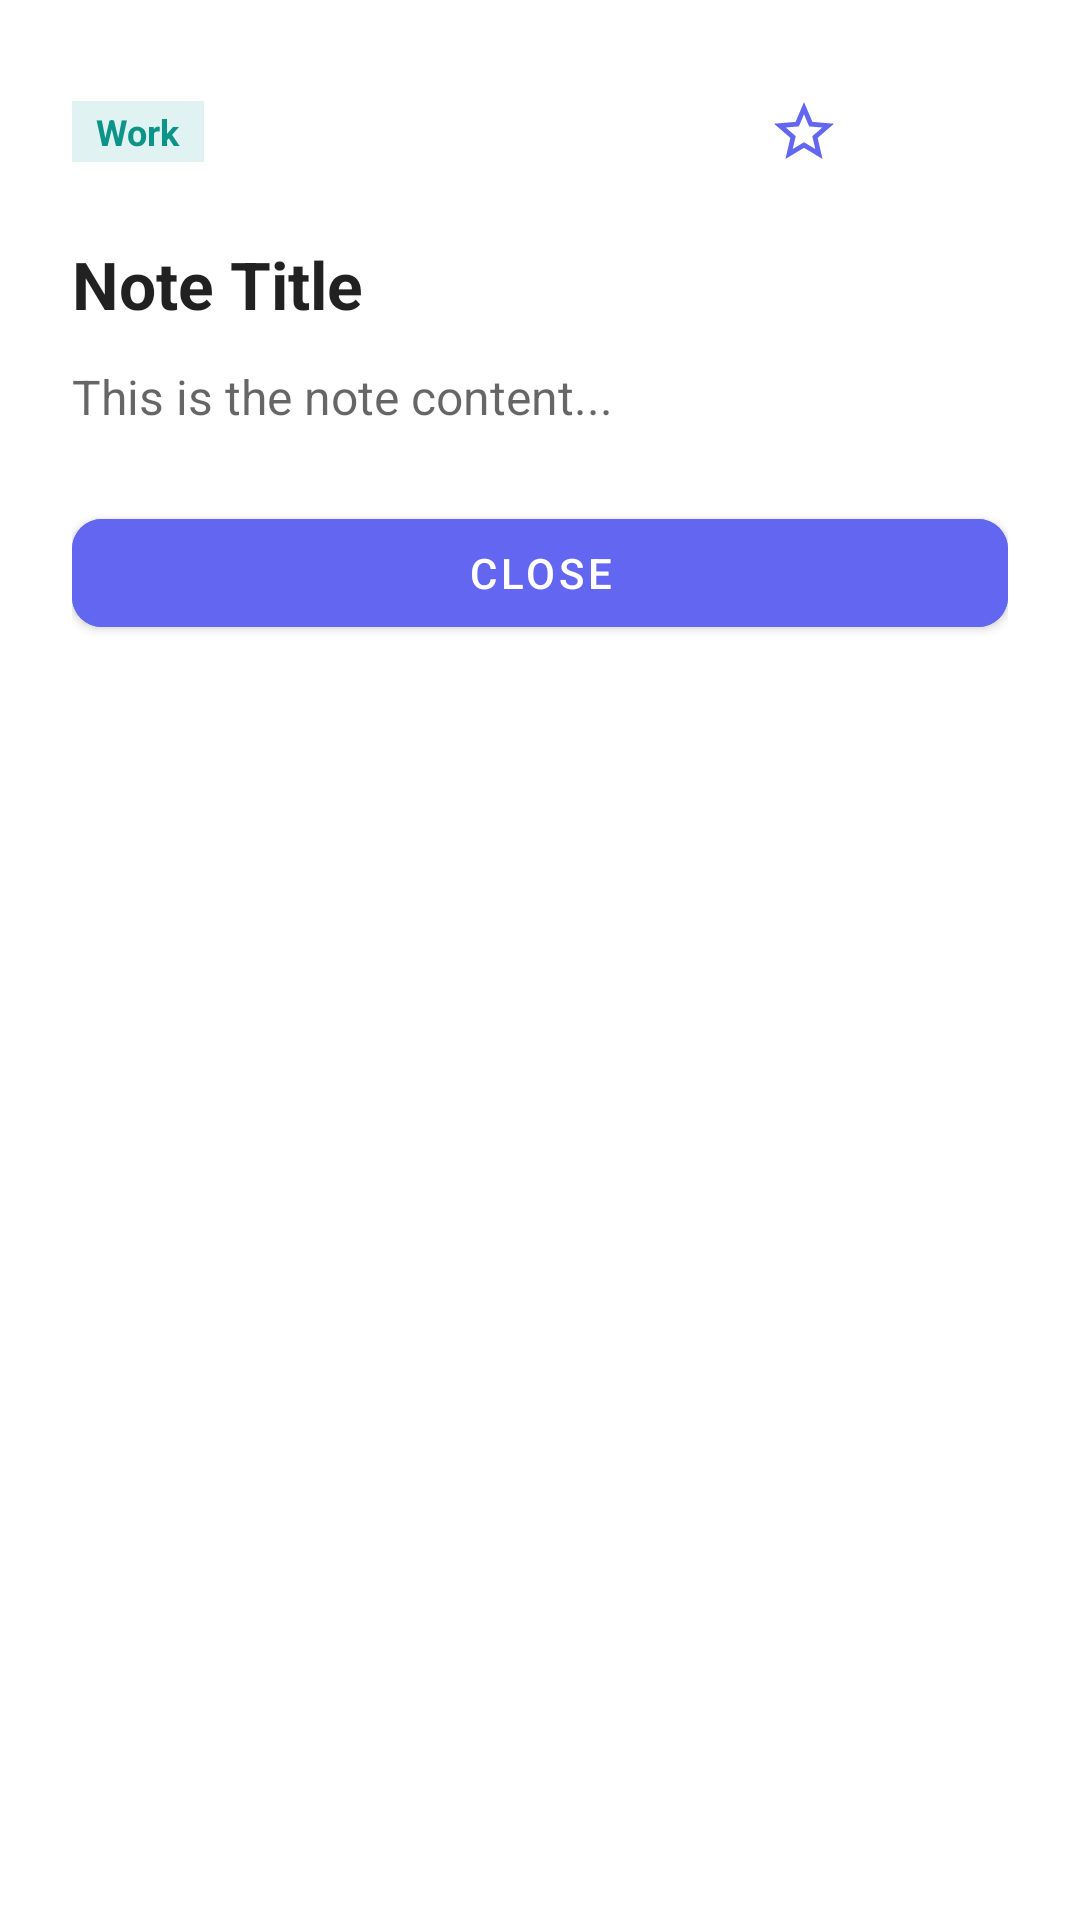

Screen size 1080×1920. Icon name, then its box in pixels as rect(x1, y1, x2, y2):
Favorite Button: rect(774, 102, 834, 159)
